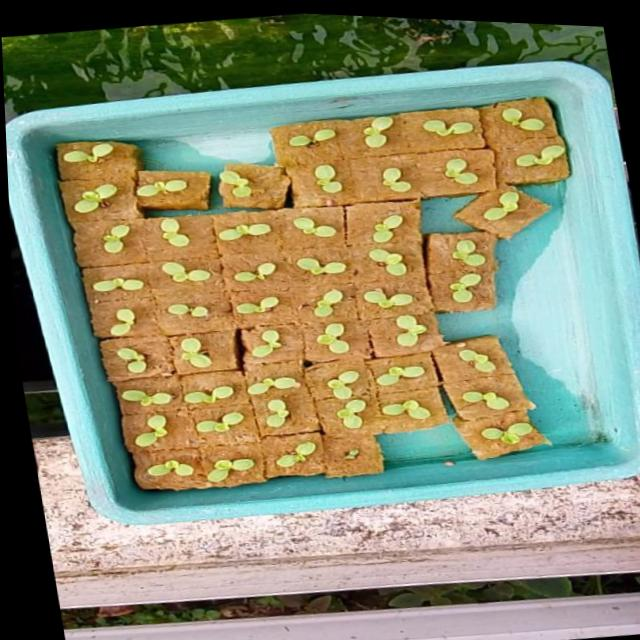Baby: (450, 195, 501, 237), (471, 109, 535, 141), (61, 223, 118, 258), (473, 141, 524, 173), (341, 288, 389, 319), (344, 255, 399, 282), (212, 336, 258, 367), (344, 371, 397, 397), (73, 355, 113, 388), (129, 311, 189, 332), (171, 470, 220, 495), (455, 430, 507, 453), (81, 398, 140, 418), (242, 452, 285, 479), (430, 240, 464, 273), (402, 125, 461, 144), (131, 267, 182, 288), (98, 424, 130, 457), (368, 321, 400, 354), (146, 345, 179, 377), (214, 385, 269, 404), (203, 267, 250, 289), (287, 329, 319, 361), (297, 378, 330, 408), (340, 122, 370, 154), (149, 395, 201, 413), (435, 399, 483, 418), (270, 263, 320, 281), (349, 219, 379, 249), (307, 406, 336, 437), (286, 295, 317, 324), (432, 356, 469, 380), (419, 165, 452, 191), (356, 412, 403, 430), (131, 223, 160, 252), (289, 169, 318, 198), (207, 302, 251, 321), (111, 471, 159, 488), (77, 315, 104, 343), (425, 287, 457, 310), (60, 283, 112, 297), (358, 172, 387, 197), (233, 409, 257, 438), (270, 222, 302, 242), (162, 427, 201, 442)
